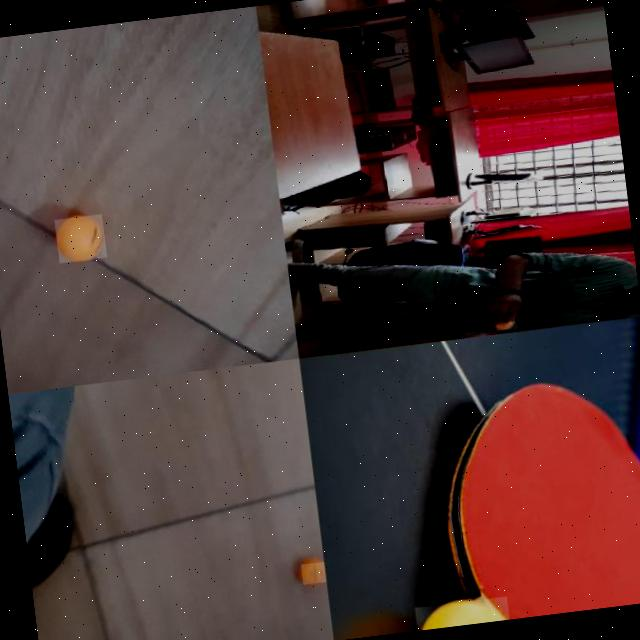ping-pong-ball: (411, 594, 508, 630), (51, 212, 106, 264), (297, 560, 325, 584), (494, 321, 516, 332)
